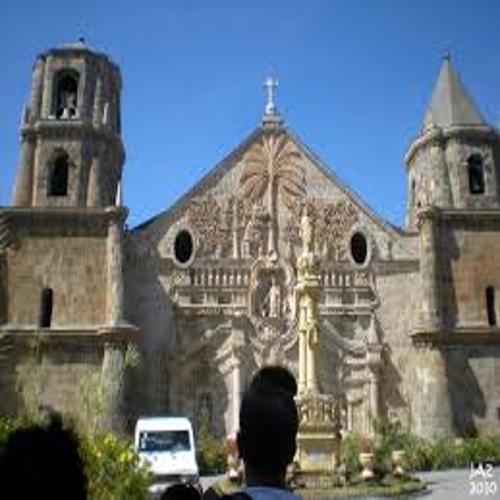Miagao Church: (5, 31, 500, 479)
